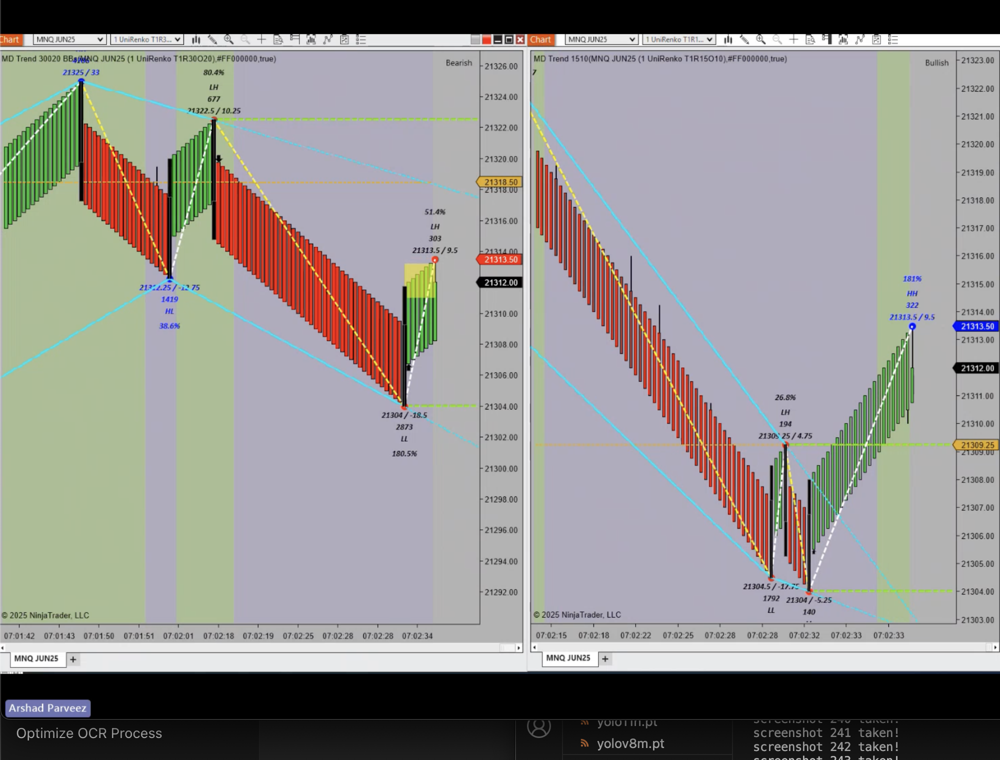HH: (900, 284, 924, 302)
HL: (157, 304, 186, 319)
LH: (424, 218, 453, 233), (203, 79, 228, 96), (777, 404, 799, 420)
LL: (391, 429, 417, 449), (761, 603, 783, 624)
